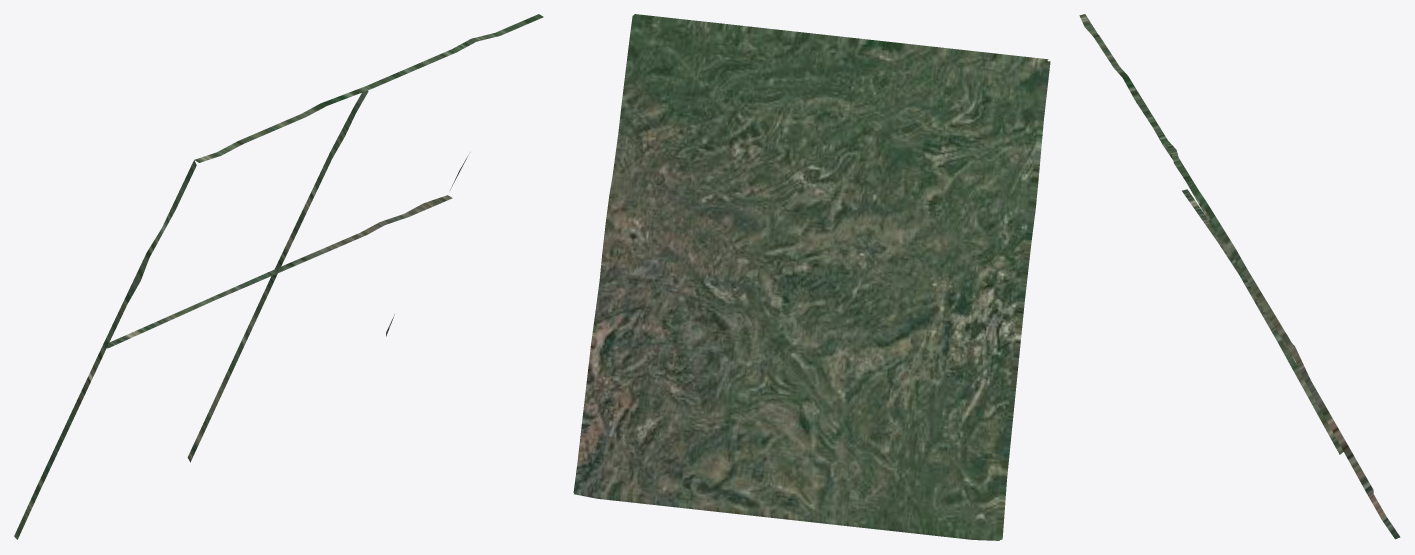
The picture shows the model from 3 angles, left to right: view 1: azimuth 30°, elevation 25°; view 2: azimuth 150°, elevation 25°; view 3: azimuth 270°, elevation 25°; orthographic projection. The views are drawn at different scales.
Bounding box in the file's own units: 311574 × 283659 × 215525.
Materials: 1 (1 with a texture image).
